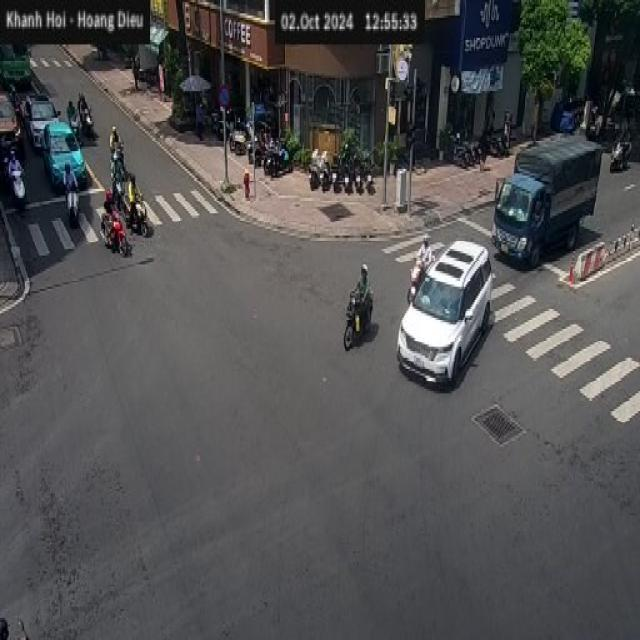car: (397, 238, 492, 386), (42, 123, 88, 186), (21, 76, 53, 142), (0, 78, 14, 146)
motorcycle: (342, 284, 372, 349), (121, 195, 157, 229), (401, 256, 430, 296), (100, 217, 136, 249), (448, 128, 473, 165), (313, 143, 333, 187), (8, 182, 33, 216), (473, 123, 509, 146), (61, 193, 83, 229), (108, 145, 134, 175), (335, 142, 350, 194), (460, 130, 483, 163), (349, 145, 365, 192), (262, 148, 290, 174), (357, 144, 371, 194), (250, 138, 281, 160), (229, 132, 258, 152), (308, 139, 320, 185), (327, 141, 337, 191), (69, 121, 89, 145), (83, 115, 98, 146), (110, 170, 128, 193)
person: (352, 253, 369, 323), (123, 169, 142, 208), (416, 228, 432, 274), (64, 156, 81, 198), (102, 188, 119, 229), (8, 148, 22, 184), (109, 141, 121, 181), (67, 95, 78, 133), (81, 97, 93, 129), (109, 126, 121, 156)
truck: (490, 129, 604, 267)
